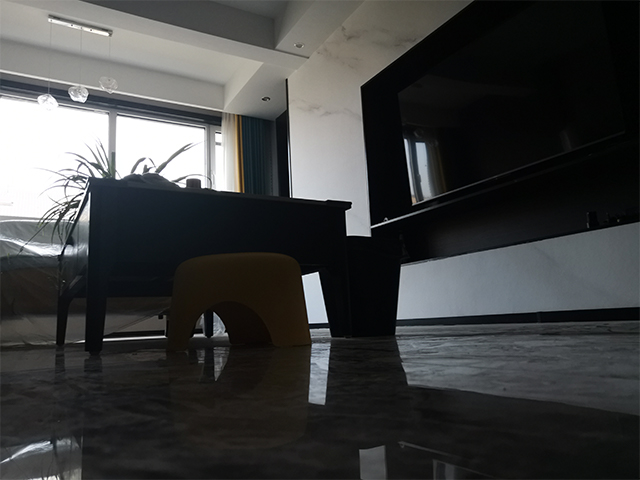stool: (161, 249, 313, 355)
table: (54, 175, 355, 357)
trashcan: (318, 235, 406, 339)
